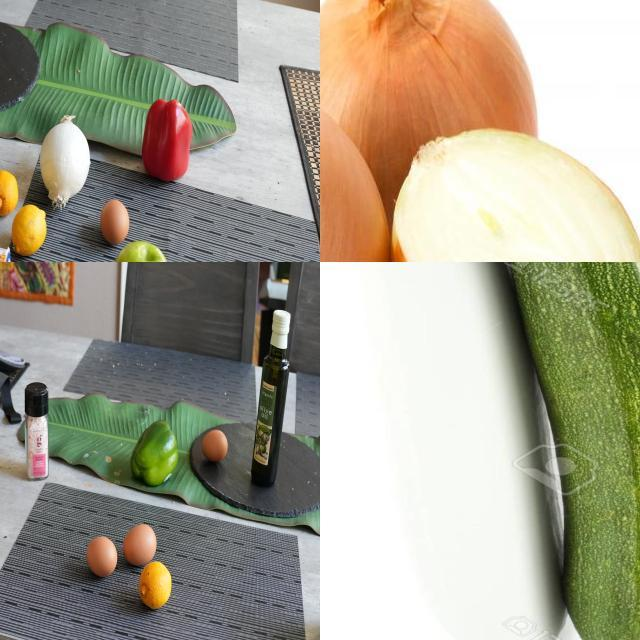bell_pepper: (138, 96, 198, 190), (130, 419, 184, 495)
egg: (123, 521, 159, 567), (100, 197, 132, 245), (89, 535, 121, 581), (202, 424, 230, 468)
onion: (321, 1, 541, 263), (395, 128, 640, 263), (38, 111, 95, 208)
zucchini: (450, 263, 640, 640)
